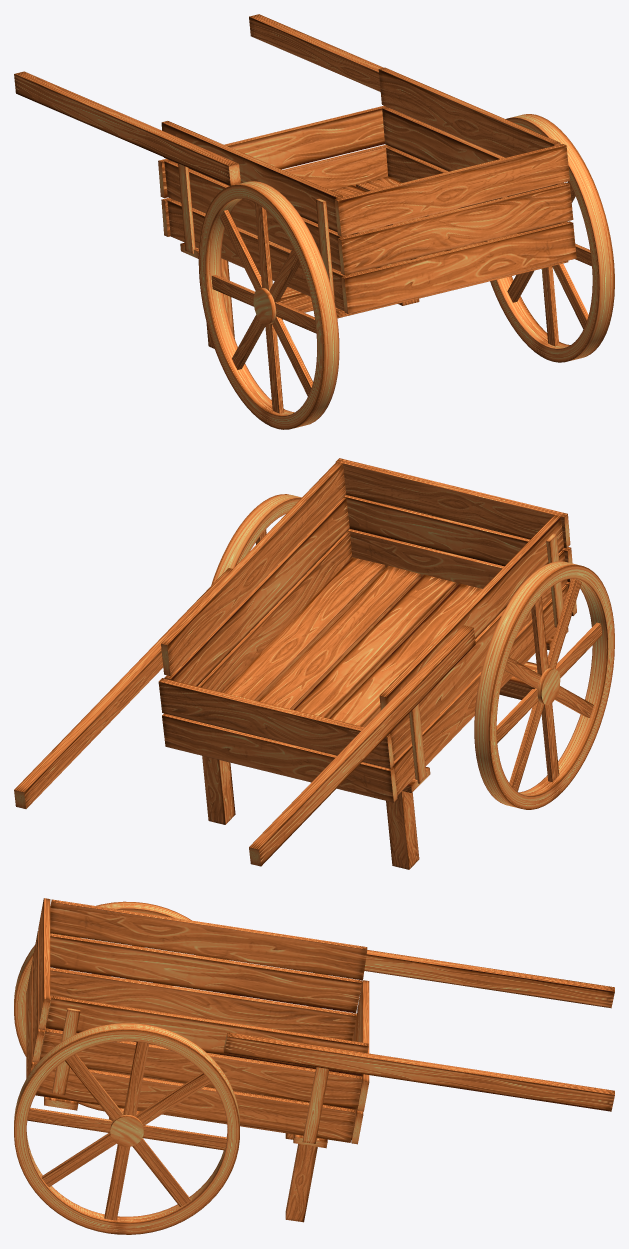
Rendered from carretita.glb.
3 views of the same model, one above another, from view 1: azimuth 30°, elevation 25°; view 2: azimuth 150°, elevation 25°; view 3: azimuth 270°, elevation 25° (orthographic). The views are drawn at different scales.
Visible parts, largest first — view 1: Carreta_L0; view 2: Carreta_L0; view 3: Carreta_L0.
Boxes of the visible parts, x1,y1,x2,y2 form: Carreta_L0: (14,14,614,429); Carreta_L0: (14,458,614,869); Carreta_L0: (14,898,614,1234).
Size of the model in its own units: 163 by 136 by 323.
Materials: 1 (1 with a texture image).
